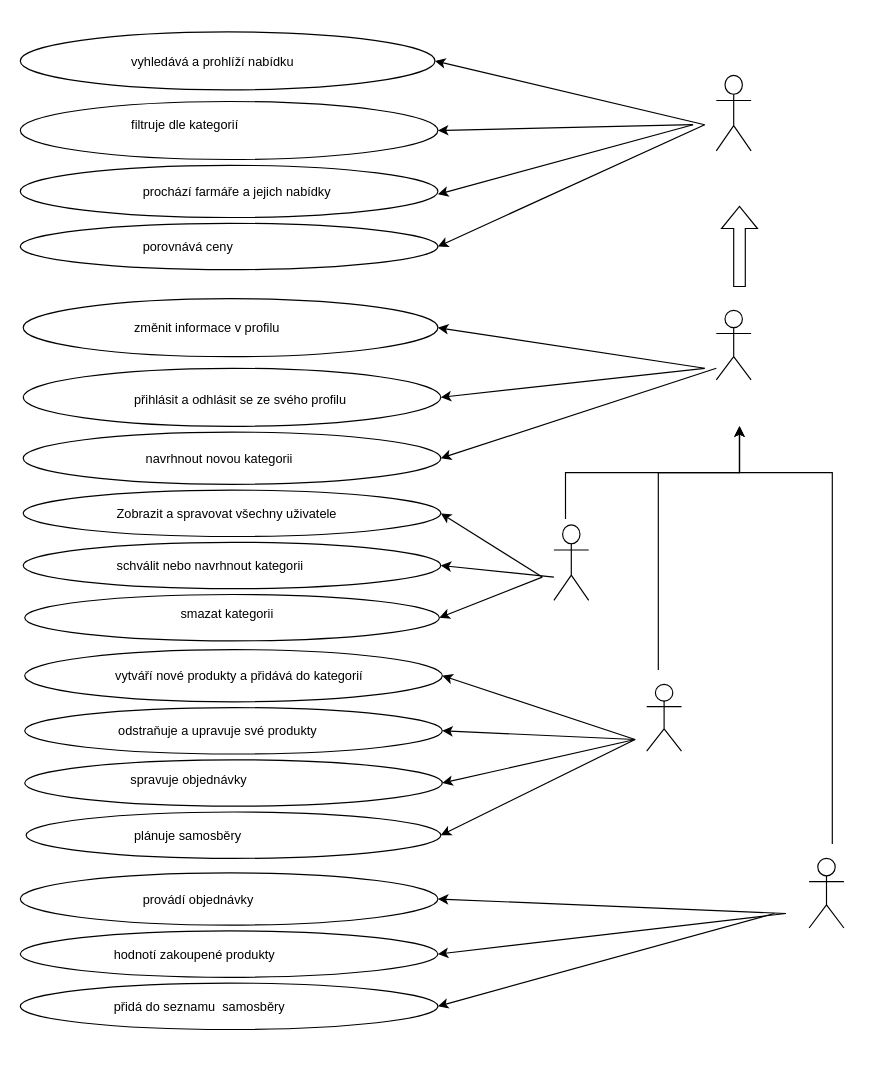
The diagram is 879 pixels wide and 1066 high, and some of its shapes have lost their labels. The shapes that lost their labels are listed below. From the top down, each one's centre as x and y in pixels, then its label:
At point (733, 112): "neregistrovaný".
At point (733, 344): "registrovaný".
At point (571, 562): "administrátor".
At point (664, 717): "farmář".
At point (826, 892): "zákazník".
